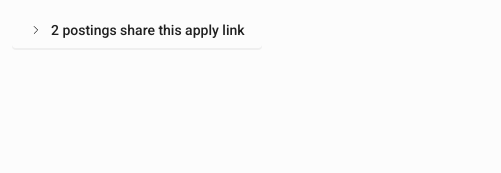
actor badge › names the actor on a cheap posting
Click the button: coordinates (137, 30) x1=12 y1=12 x2=262 y2=48
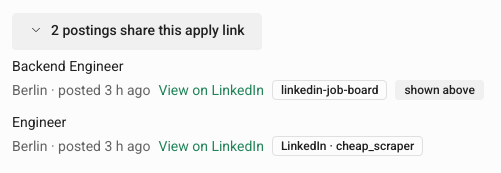
Expected: the text "LinkedIn · cheap_scraper" is shown, x1=272 y1=136 x2=423 y2=156
